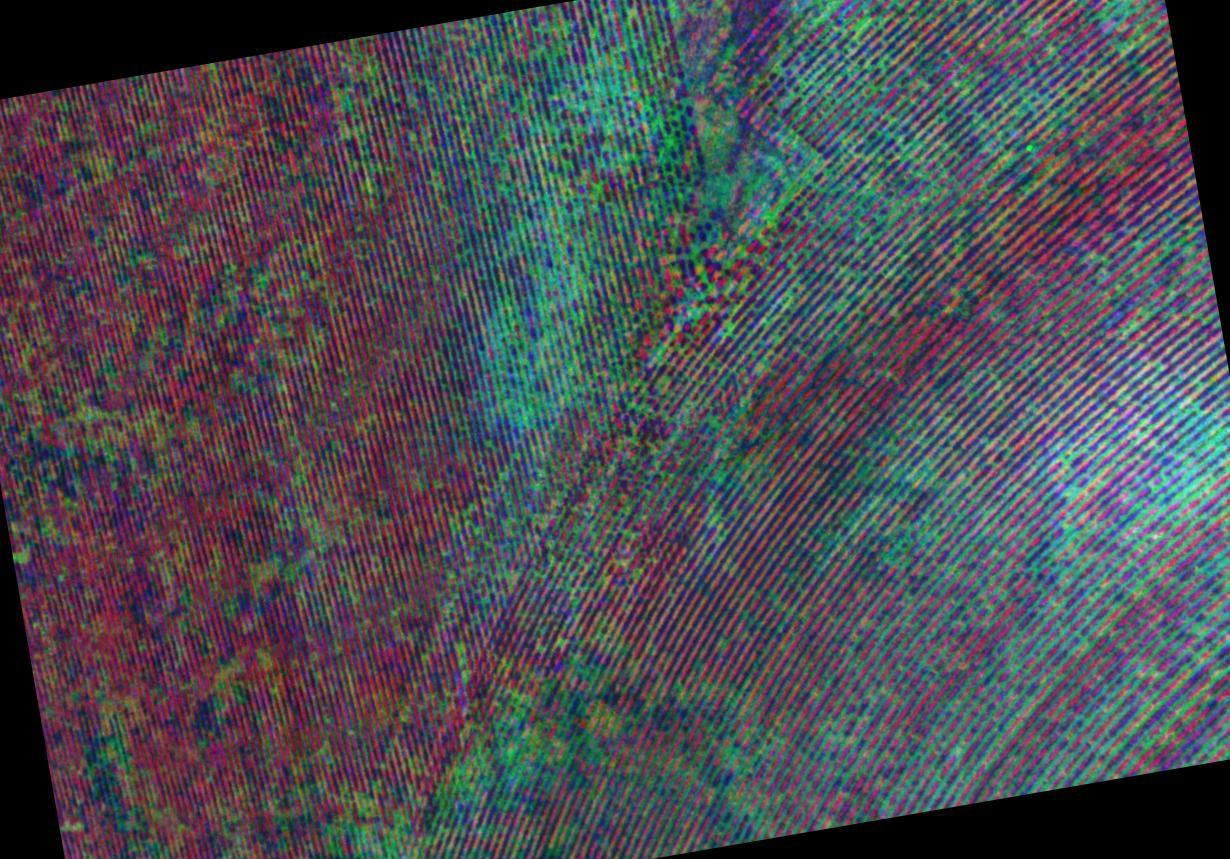dc: (491, 120, 576, 231), (443, 725, 545, 812), (496, 335, 585, 426), (1161, 425, 1225, 516)
